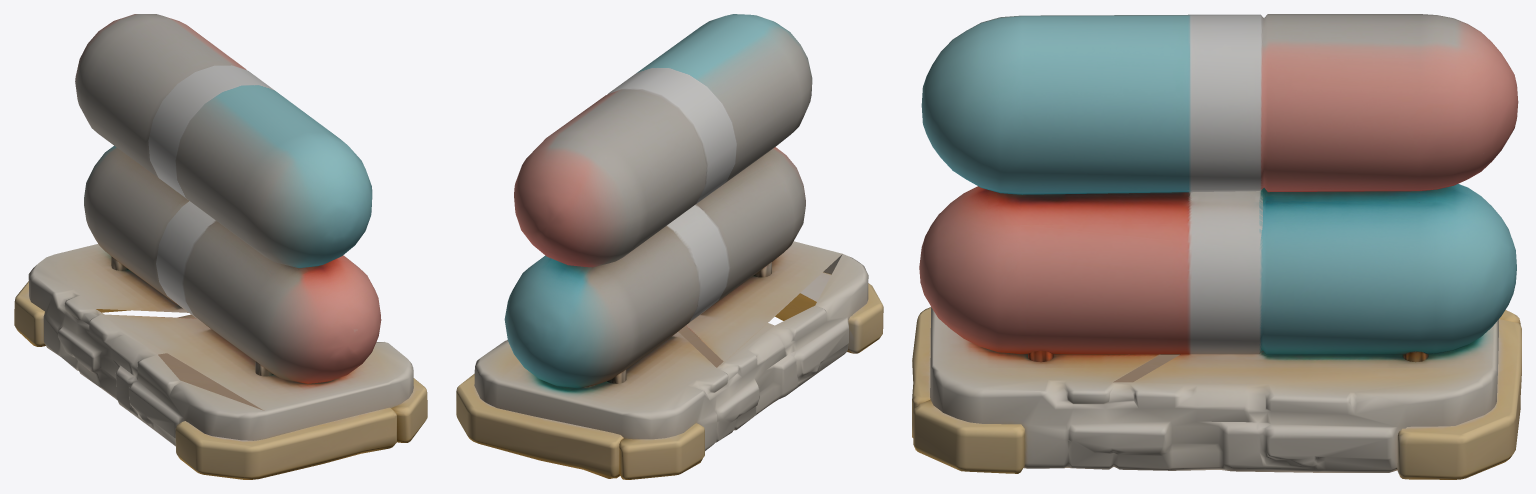
3 renders of one model, left to right at view 1: azimuth 30°, elevation 25°; view 2: azimuth 150°, elevation 25°; view 3: azimuth 270°, elevation 25°, orthographic. The views are drawn at different scales.
Parts seen in each view (by area): view 1: tripo_node_d55ad2f8; view 2: tripo_node_d55ad2f8; view 3: tripo_node_d55ad2f8.
Part boxes in pixels (<box>): tripo_node_d55ad2f8: <box>14,14,427,479</box>; tripo_node_d55ad2f8: <box>456,14,883,479</box>; tripo_node_d55ad2f8: <box>912,14,1521,479</box>.
Size of the model in its own units: 0.5801 by 0.7051 by 0.998.
1 material, 1 textured.
